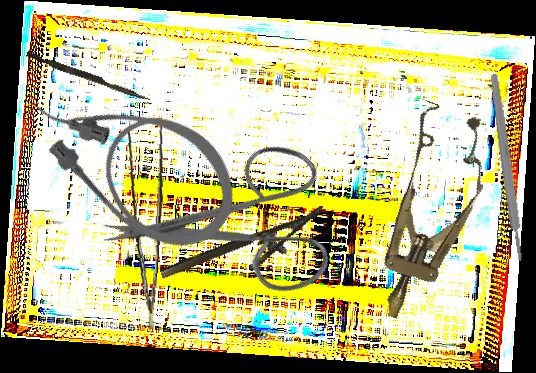Cannula: (14, 47, 258, 271)
Iris Scissors: (92, 90, 374, 371)
Needle Holder: (158, 205, 336, 302)
Pusher: (25, 50, 152, 103)
Scalpel Handle: (488, 73, 526, 262)
Speculum: (351, 98, 504, 332)
Tissue Forceps: (114, 115, 169, 330)
